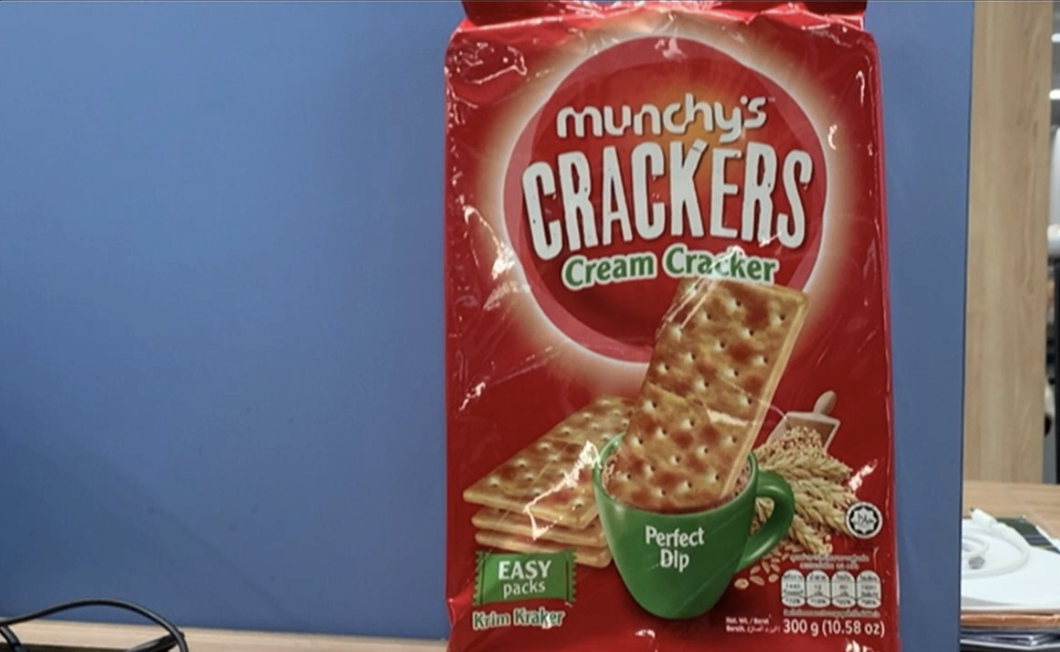crackers_300g-399g: (475, 56, 887, 641)
